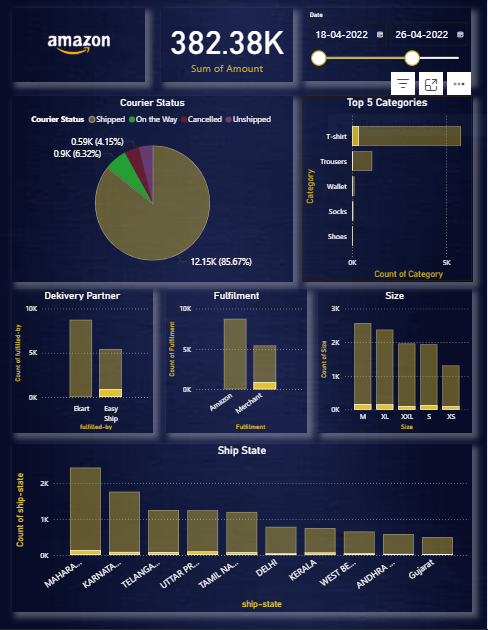

The page's visual inventory and layout, read from the dashboard file:
{"tool":"powerbi","page":{"name":"Page 1","canvas":[816,1056],"ordinal":0},"visuals":[{"type":"image","box":[20,14.4,223.3,124.4],"z":0},{"type":"card","fields":{"Values":["Sum(Amazon Sale Report.Amount)"]},"box":[270,14.4,221.1,124.4],"z":1000},{"type":"slicer","fields":{"Values":["Amazon Sale Report.Date"]},"box":[506.7,15.6,284.4,123.3],"z":2000},{"type":"clusteredBarChart","title":"Top 5 Categories","fields":{"Category":["Amazon Sale Report.Category"],"Y":["CountNonNull(Amazon Sale Report.Category)"]},"box":[505.6,162.2,285.6,311.1],"z":3000},{"type":"pieChart","title":"Courier Status","fields":{"Category":["Amazon Sale Report.Courier Status"],"Y":["CountNonNull(Amazon Sale Report.Courier Status)"]},"box":[20,162.2,471.1,311.1],"z":4000},{"type":"columnChart","title":"Dekivery Partner","fields":{"Category":["Amazon Sale Report.fulfilled-by"],"Y":["CountNonNull(Amazon Sale Report.fulfilled-by)"]},"box":[20,486.7,235.6,241.1],"z":5000},{"type":"columnChart","title":"Fulfilment","fields":{"Category":["Amazon Sale Report.Fulfilment"],"Y":["CountNonNull(Amazon Sale Report.Fulfilment)"]},"box":[278.9,486.7,236.7,241.1],"z":6000},{"type":"columnChart","title":"Size","fields":{"Y":["CountNonNull(Amazon Sale Report.Size)"],"Category":["Amazon Sale Report.Size"]},"box":[533.3,486.7,257.8,241.1],"z":6001},{"type":"clusteredColumnChart","title":"Ship State","fields":{"Category":["Amazon Sale Report.ship-state"],"Y":["CountNonNull(Amazon Sale Report.ship-state)"]},"box":[20,745.6,771.1,281.1],"z":6002}]}

Visuals, with their boxes in screenshot pixels (x1, y1, x2, y2), scaled from the page's 816x1056 canvas onto the 488x630 screenshot:
image: bbox=[12, 9, 146, 83]
card - Sum(Amazon Sale Report.Amount): bbox=[161, 9, 294, 83]
slicer - Amazon Sale Report.Date: bbox=[303, 9, 473, 83]
"Top 5 Categories" clusteredBarChart: bbox=[302, 97, 473, 282]
"Courier Status" pieChart: bbox=[12, 97, 294, 282]
"Dekivery Partner" columnChart: bbox=[12, 290, 153, 434]
"Fulfilment" columnChart: bbox=[167, 290, 308, 434]
"Size" columnChart: bbox=[319, 290, 473, 434]
"Ship State" clusteredColumnChart: bbox=[12, 445, 473, 613]
